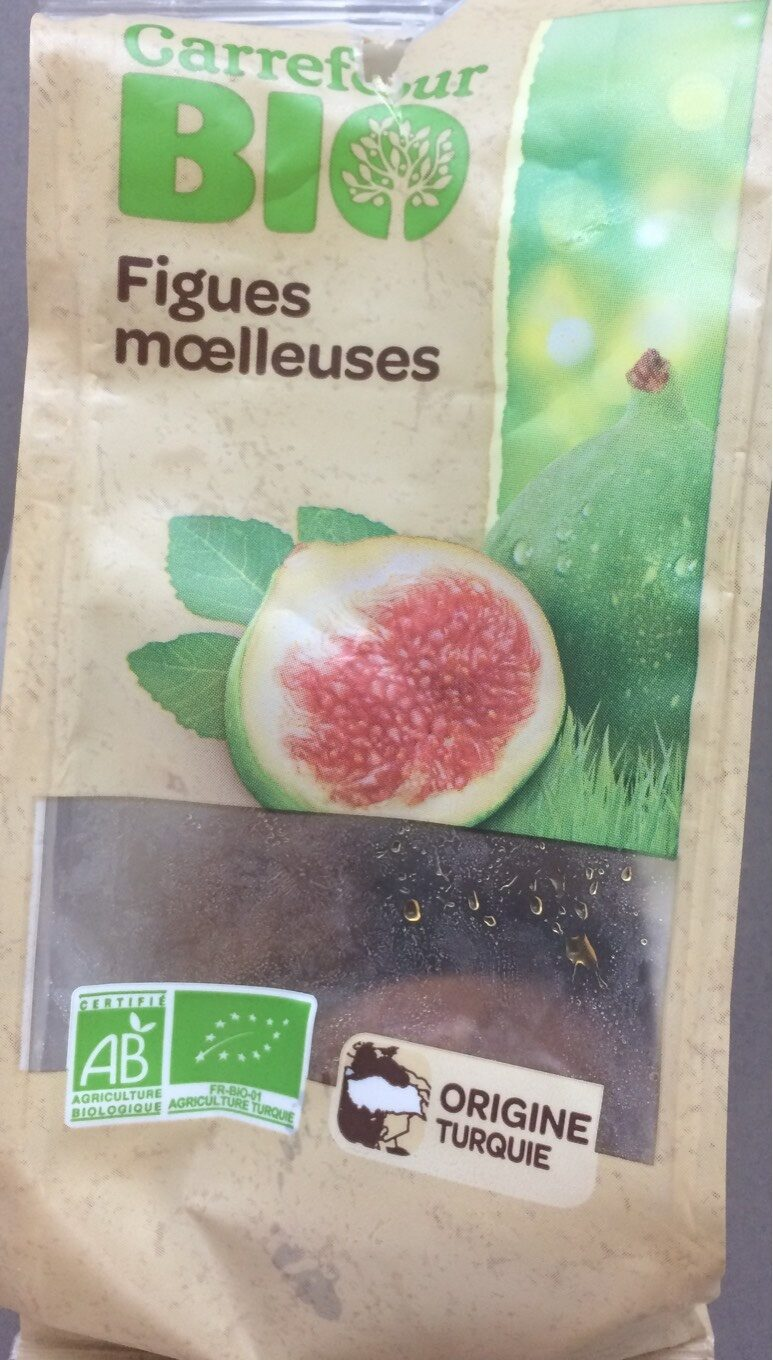Figues moelleuses: (39, 68, 734, 1292)
